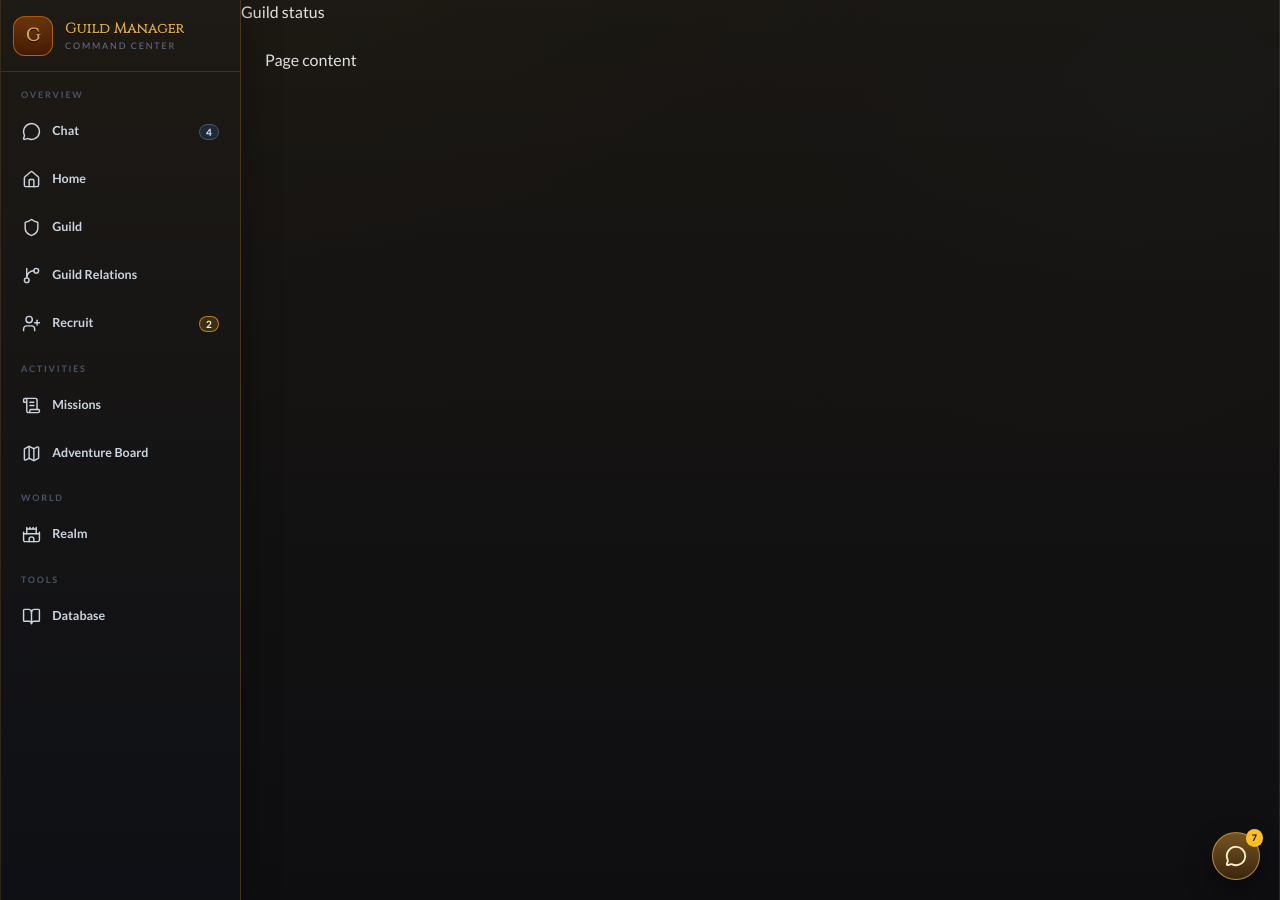
Test: AppShell › opens the medium-desktop chat overlay and shows unread messages
expect the text "7" is shown: met, box [1246,829,1263,846]
Click the button named "Open character chat" at [1236, 856], box [1212,832,1260,880]
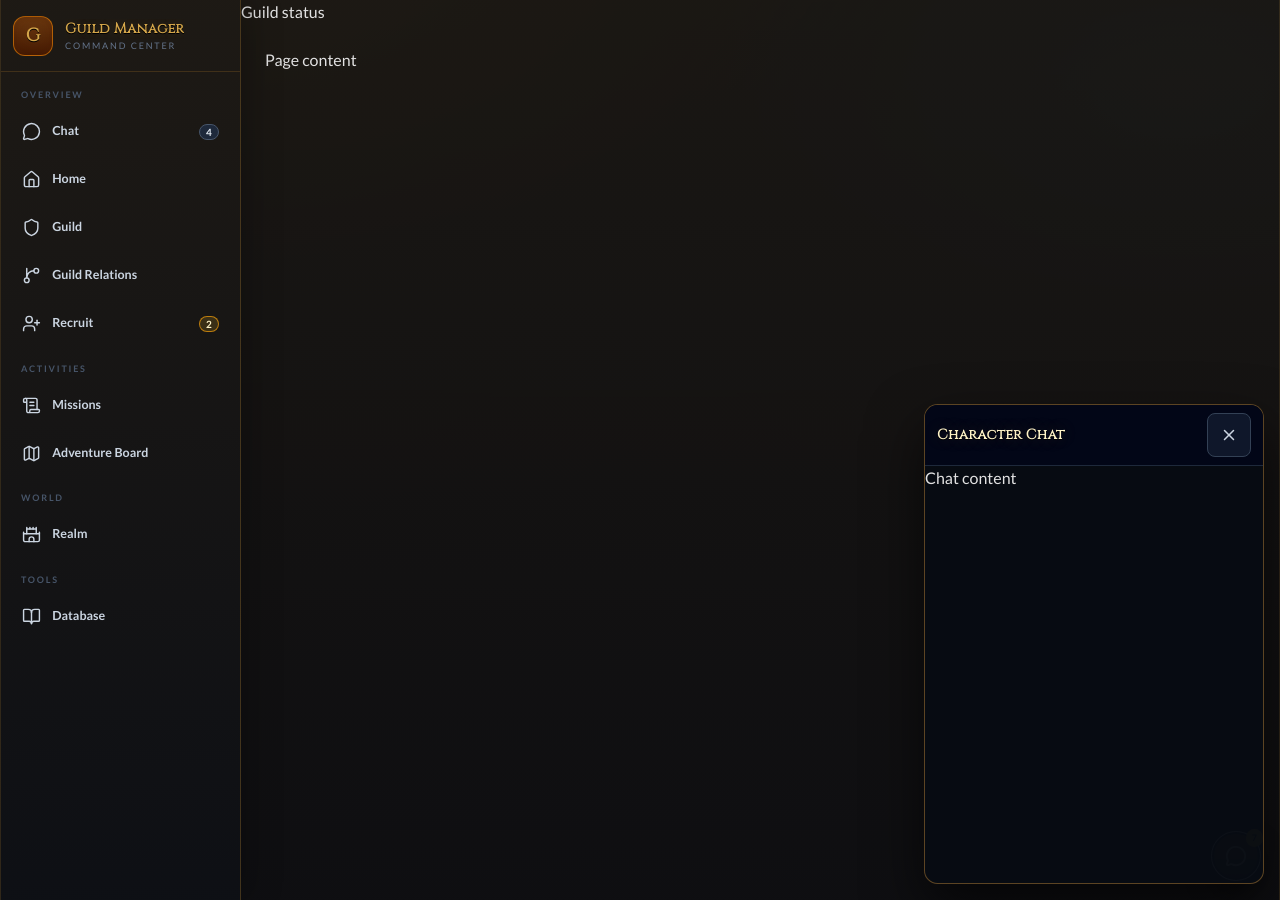
expect the dialog "Character Chat" is shown: met, box [924,404,1264,884]
Click the button named "Close character chat" at [1229, 435], box [1207,413,1251,457]
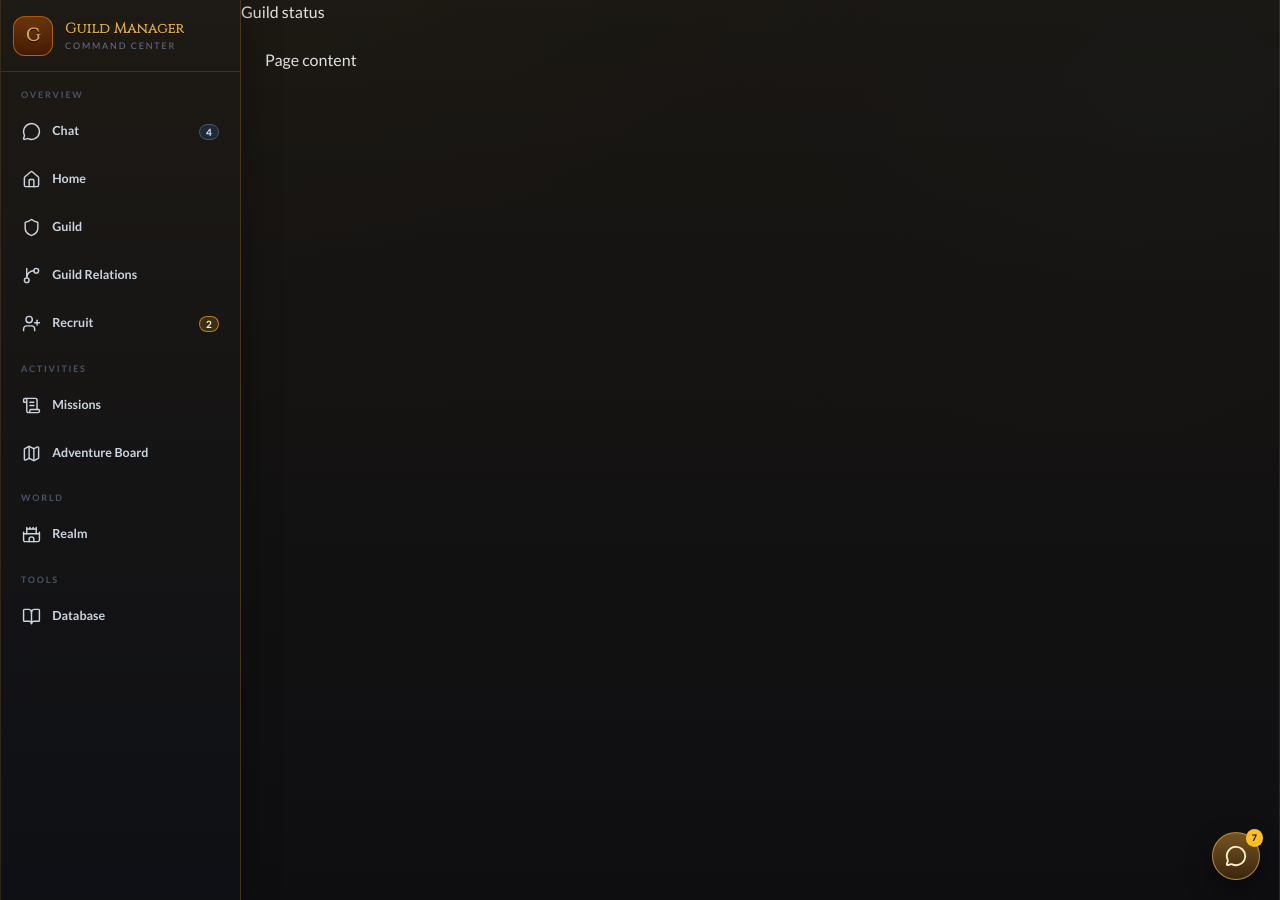
expect the text "Character Chat" is gone: met
